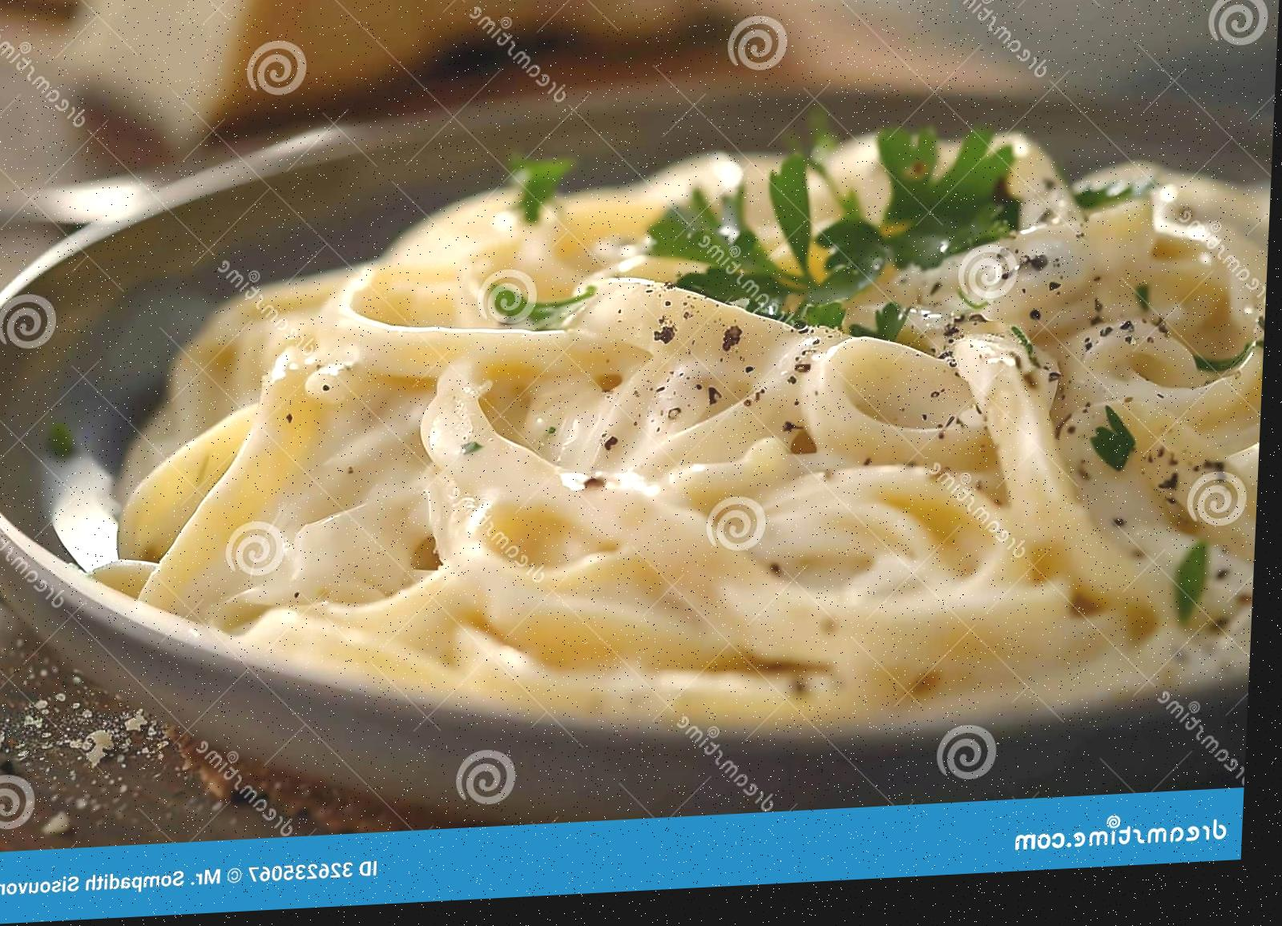pasta: (119, 135, 1269, 723)
